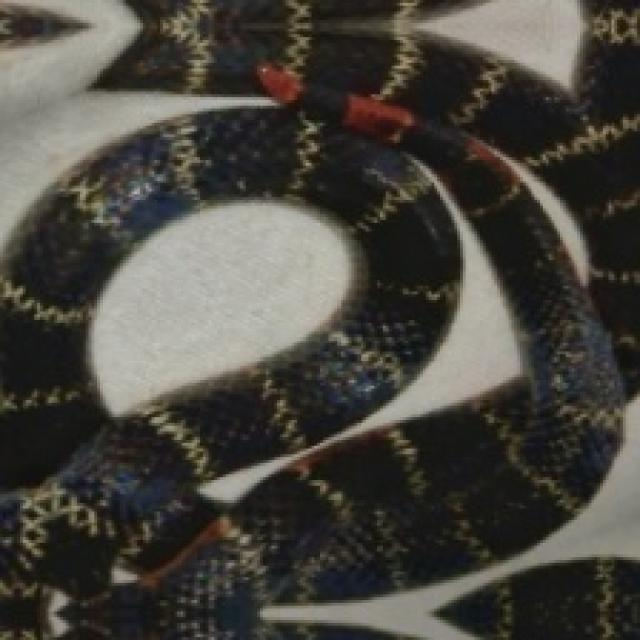barredcoral snake: (0, 106, 620, 639), (103, 0, 640, 381), (302, 84, 520, 212), (440, 559, 640, 640), (344, 94, 414, 143), (300, 84, 349, 121), (259, 64, 305, 103), (261, 64, 290, 93)
